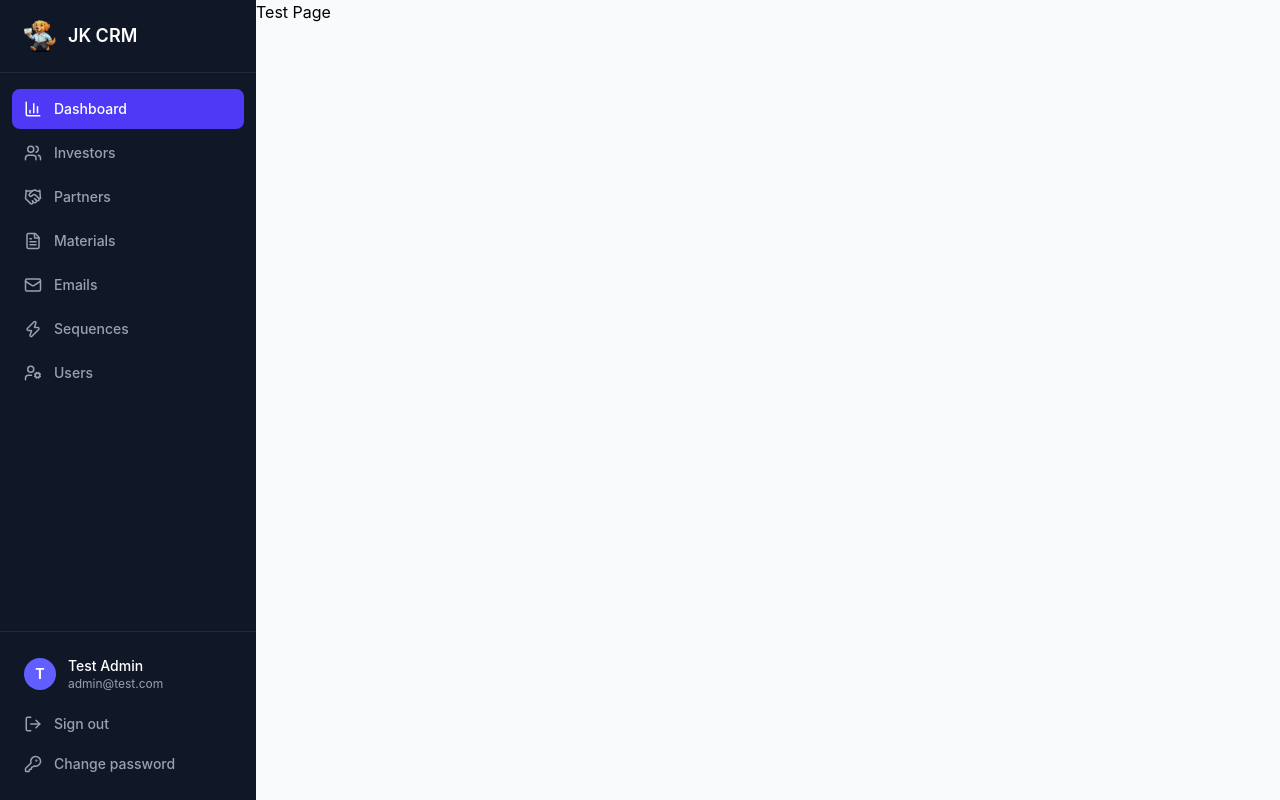
AppLayout › shows success message after changing password
Click the button "Change password": (128, 764) [12,744,244,784]
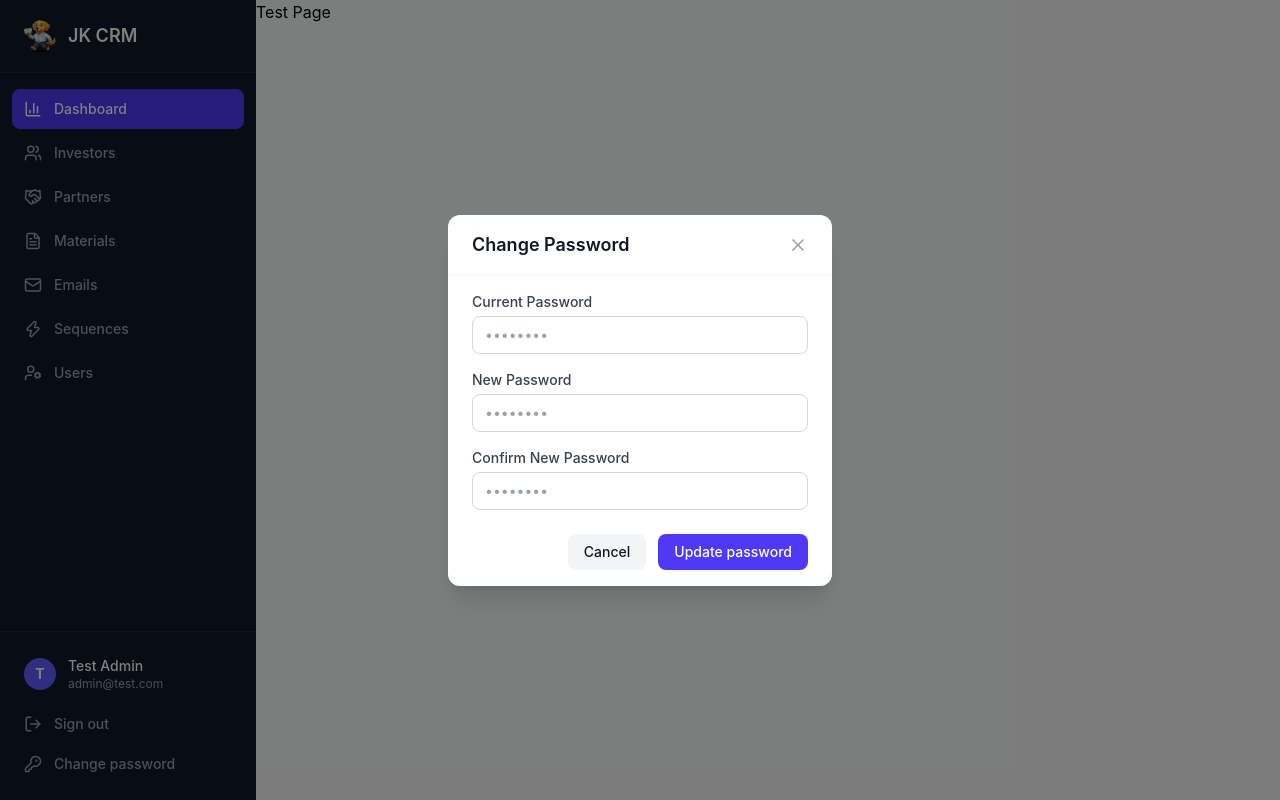
Result: the password field labelled "Current Password" is shown
In the password field labelled "Current Password": (640, 334) [472,316,808,354], type "OldPass1!"
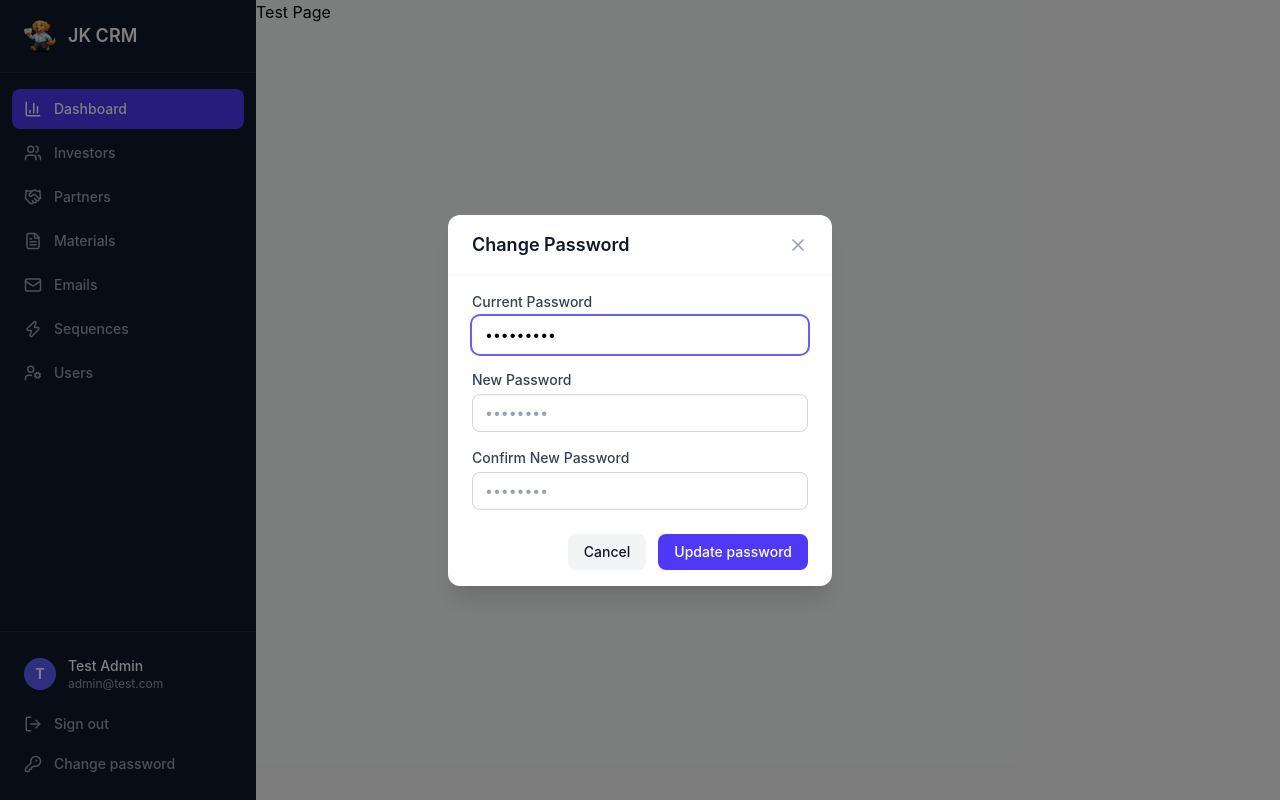
In the password field labelled "New Password": (640, 412) [472,394,808,432], type "NewPass1!"
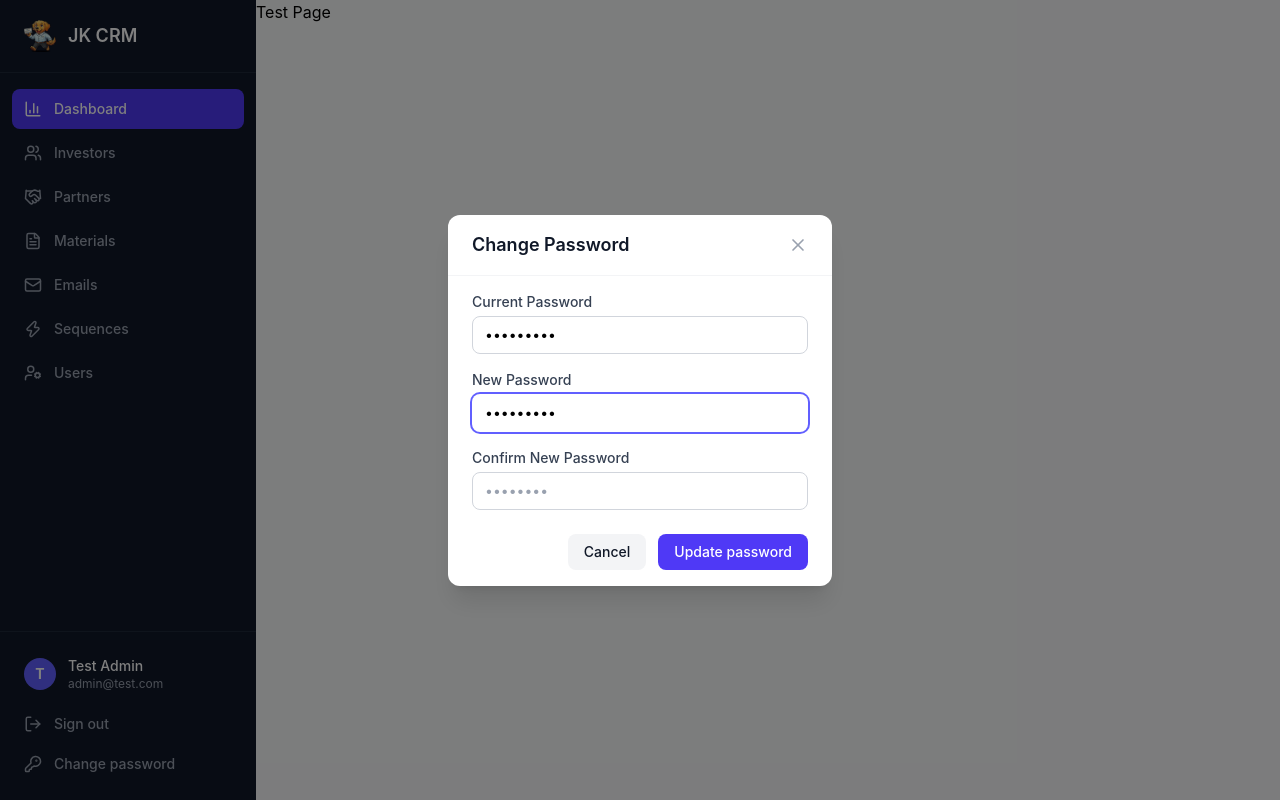
In the password field labelled "Confirm New Password": (640, 490) [472,472,808,510], type "NewPass1!"
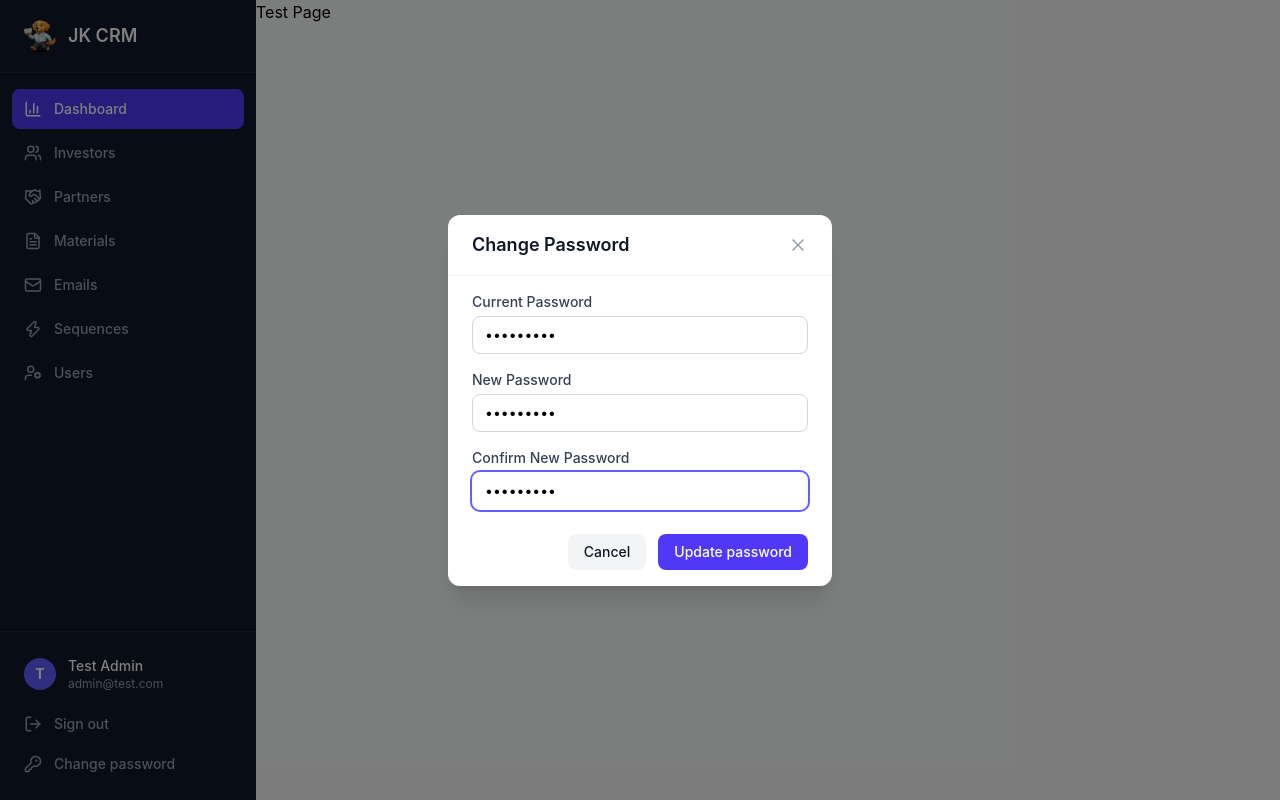
Click the button "Update password": (733, 552) [658,534,808,570]
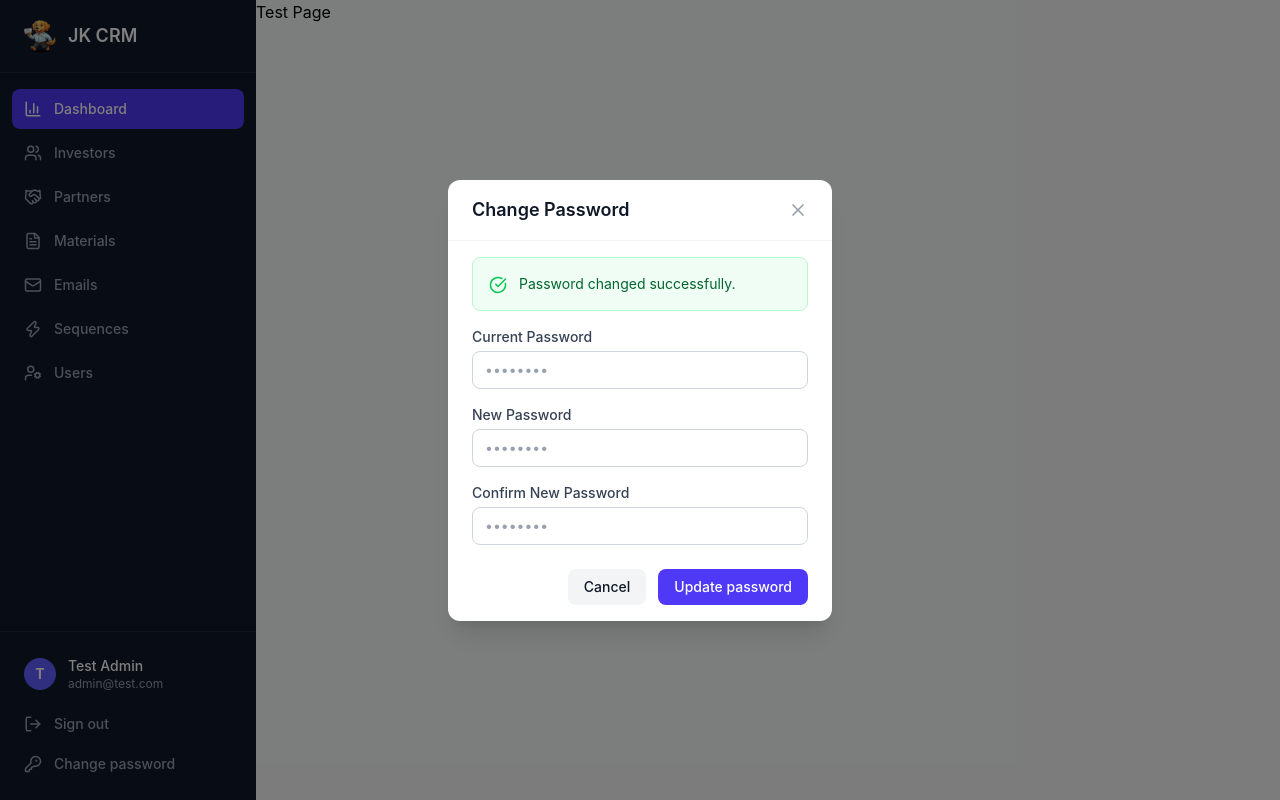
Result: the text "Password changed successfully." is shown at [519,274,736,292]
